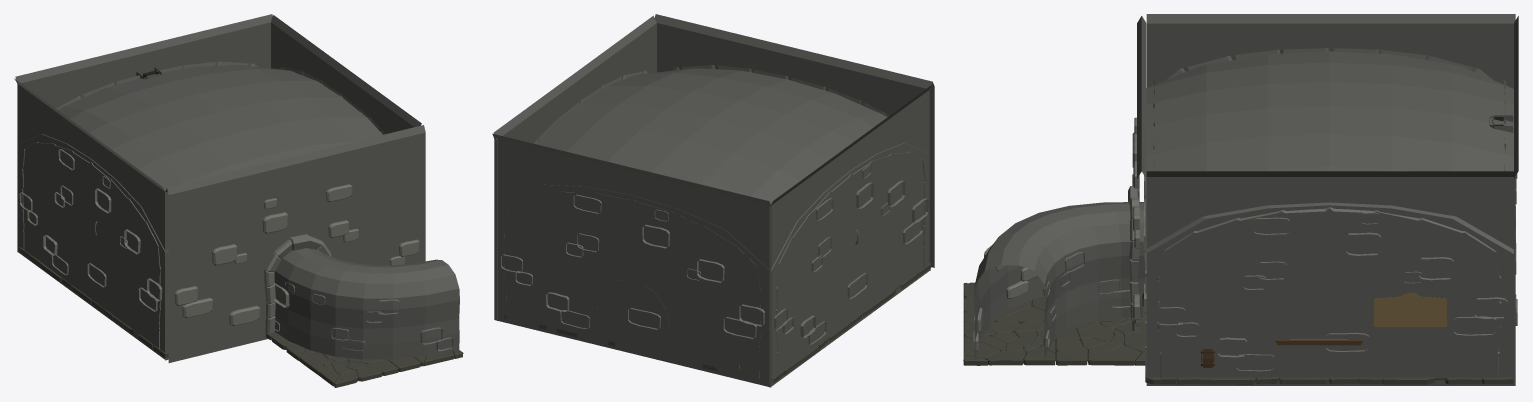
Rendered from LowPolyDungeon.glb.
3 renders of one model, left to right at view 1: azimuth 30°, elevation 25°; view 2: azimuth 150°, elevation 25°; view 3: azimuth 270°, elevation 25°, orthographic. The views are drawn at different scales.
Parts seen in each view (by area): view 1: Dungeon_Big_Passage.001, Dungeon_Big.002, Dungeon_Big_Wall.003, Hallway_Curve_Long.001, Dungeon_Big_Wall.001, Dungeon_Big_Wall.002; view 2: Dungeon_Big_Wall.001, Dungeon_Big.002, Dungeon_Big_Wall.003, Dungeon_Big_Passage.001, Dungeon_Big_Wall.002; view 3: Dungeon_Big_Wall.002, Dungeon_Big.002, Hallway_Curve_Long.001, Dungeon_Big_Wall.003, Dungeon_Big_Passage.001, Shelf_Wall.001, Dungeon_Big_Wall.001, Desk.001.
Part boxes in pixels (box(x1,y1,x2,y2)): Dungeon_Big_Passage.001: box(165, 125, 425, 362); Dungeon_Big.002: box(17, 61, 385, 357); Dungeon_Big_Wall.003: box(14, 78, 165, 359); Hallway_Curve_Long.001: box(266, 248, 463, 387); Dungeon_Big_Wall.001: box(15, 14, 272, 252); Dungeon_Big_Wall.002: box(271, 15, 421, 133); Dungeon_Big_Wall.001: box(492, 133, 771, 387); Dungeon_Big.002: box(499, 65, 931, 382); Dungeon_Big_Wall.003: box(769, 84, 932, 387); Dungeon_Big_Passage.001: box(654, 14, 934, 270); Dungeon_Big_Wall.002: box(493, 15, 656, 320); Dungeon_Big_Wall.002: box(1146, 171, 1515, 385); Dungeon_Big.002: box(1145, 47, 1513, 384); Hallway_Curve_Long.001: box(963, 202, 1145, 365); Dungeon_Big_Wall.003: box(1146, 14, 1515, 88); Dungeon_Big_Passage.001: box(1128, 16, 1146, 332); Shelf_Wall.001: box(1374, 293, 1446, 326); Dungeon_Big_Wall.001: box(1514, 16, 1518, 325); Desk.001: box(1275, 339, 1362, 345).
Bounding box in the file's own units: 8.08 × 5.18 × 12.04.
14 materials, 14 textured.
